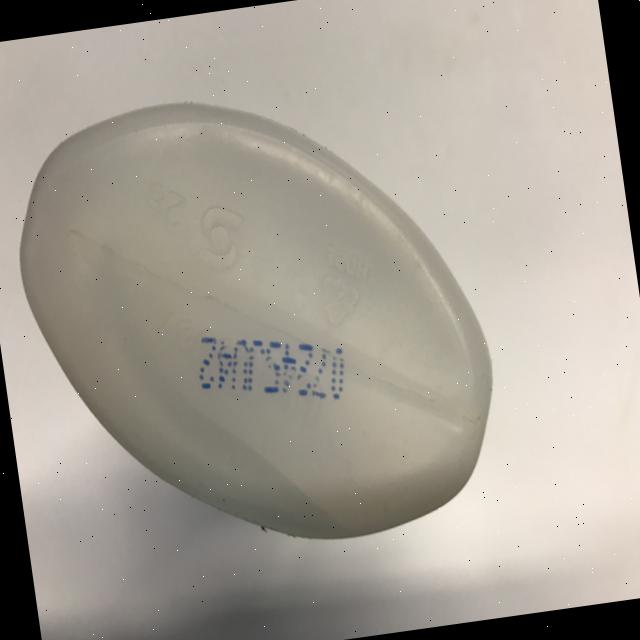plastic: (0, 62, 514, 579)
